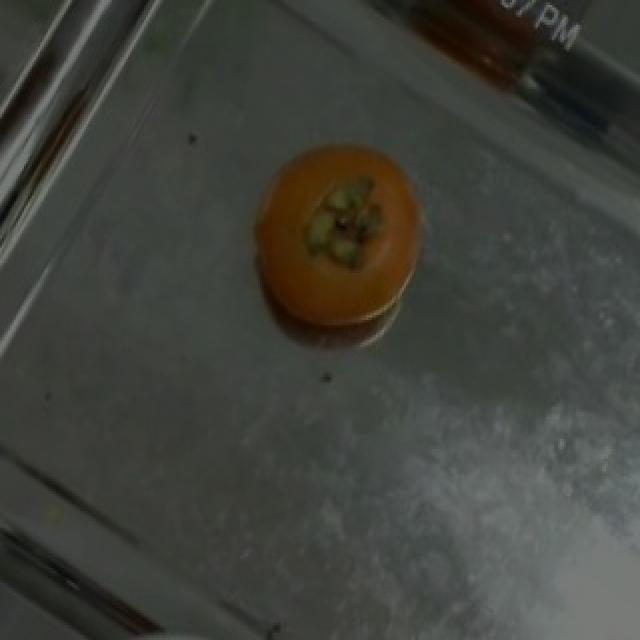Fruit: (226, 114, 452, 352)
